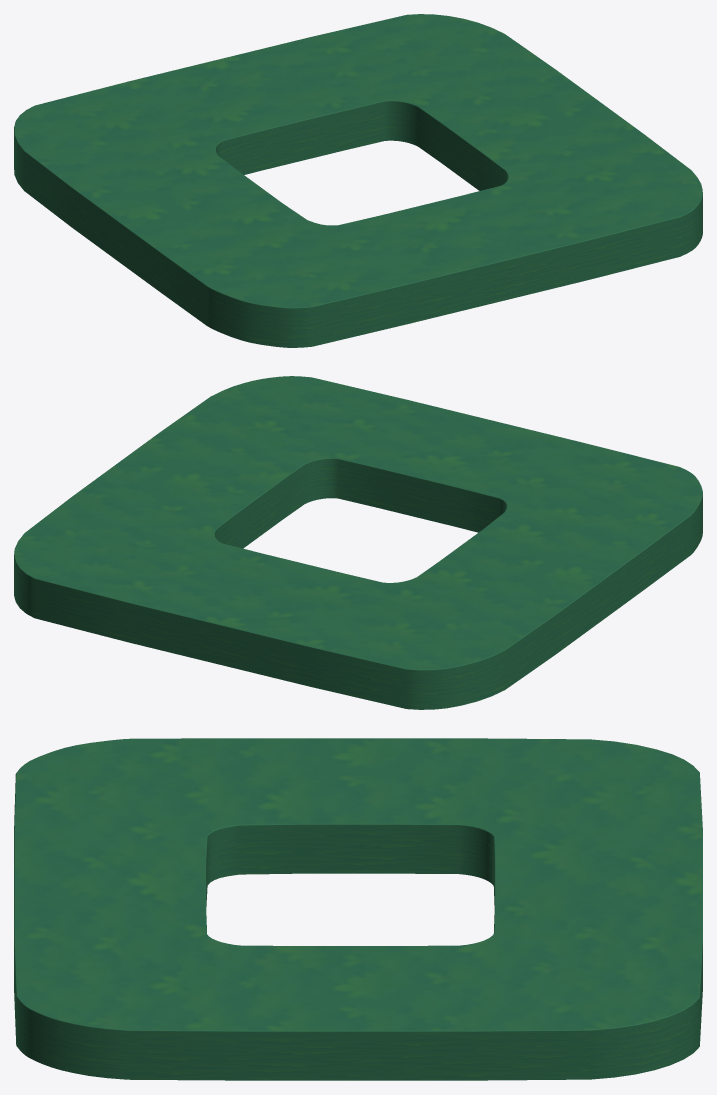
File: donut.glb
3 views of the same model, one above another, from view 1: azimuth 30°, elevation 25°; view 2: azimuth 150°, elevation 25°; view 3: azimuth 270°, elevation 25° (orthographic). The views are drawn at different scales.
Visible parts, largest first — view 1: geometry_0; view 2: geometry_0; view 3: geometry_0.
Part boxes in pixels (box(x1,y1,x2,y2)): geometry_0: box(14, 14, 702, 347); geometry_0: box(14, 376, 702, 709); geometry_0: box(14, 738, 702, 1080).
Size of the model in its own units: 76.07 by 6 by 75.59.
Materials: 1 (1 with a texture image).
